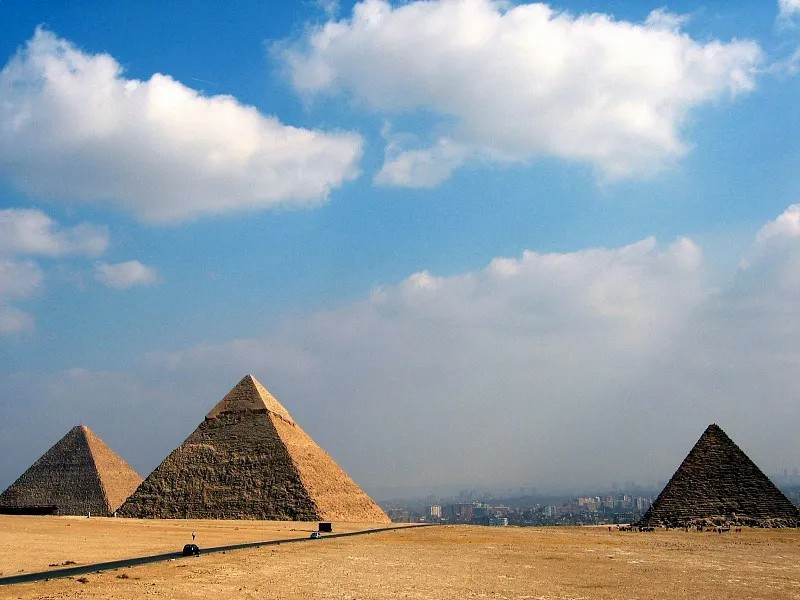Pyramid: (114, 376, 394, 526), (640, 425, 800, 524), (1, 424, 145, 517)
